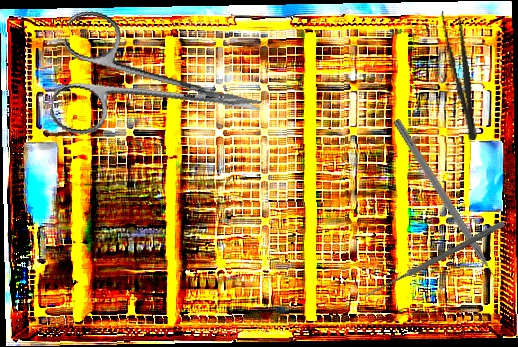Chopper: (383, 118, 505, 296)
Dressing Forceps: (437, 8, 485, 142)
Iris Scissors: (46, 7, 273, 171)
Surgical Spoon: (363, 219, 506, 300)
